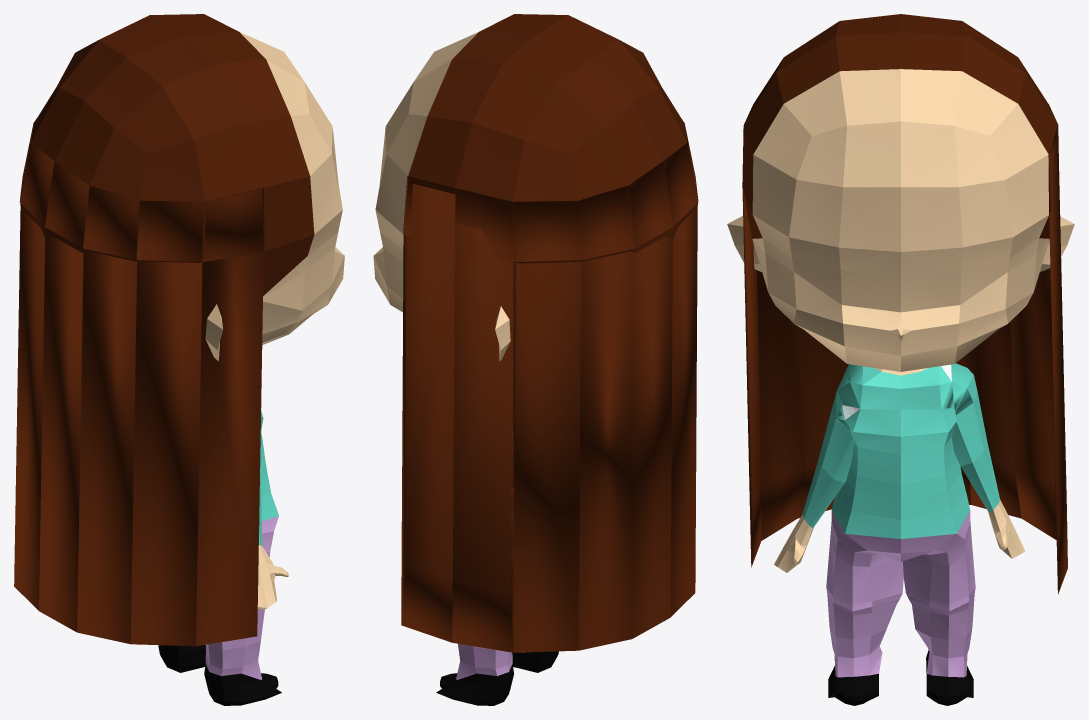
File: people_paint_0.glb
The picture shows the model from 3 angles, left to right: view 1: azimuth 30°, elevation 25°; view 2: azimuth 150°, elevation 25°; view 3: azimuth 270°, elevation 25°; orthographic projection.
Visible parts, largest first — view 1: head2; view 2: head2; view 3: head2.
Boxes of the visible parts, left/top/right/bottom form: head2: left=14, top=14, right=344, bottom=705; head2: left=373, top=14, right=698, bottom=705; head2: left=727, top=14, right=1074, bottom=705.
Bounding box in the file's own units: 5.98 × 12.96 × 6.35.
6 materials, 1 textured.
